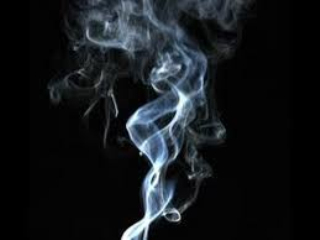smoke: (92, 14, 231, 239)
